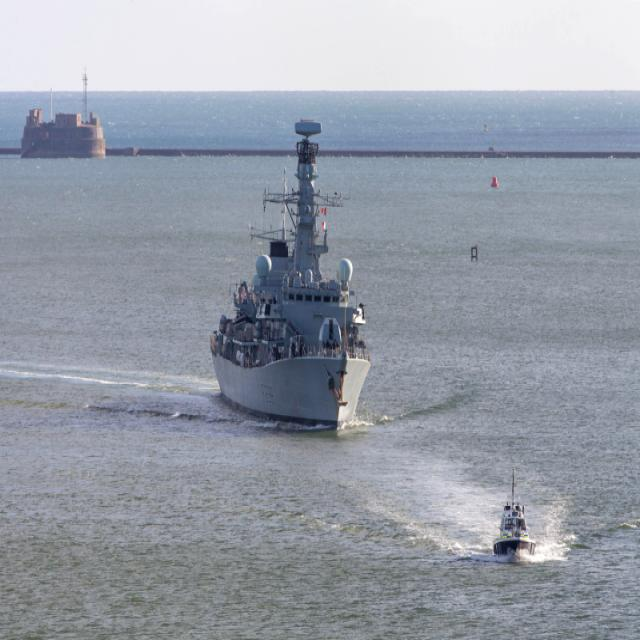Fragata: (207, 104, 378, 433)
